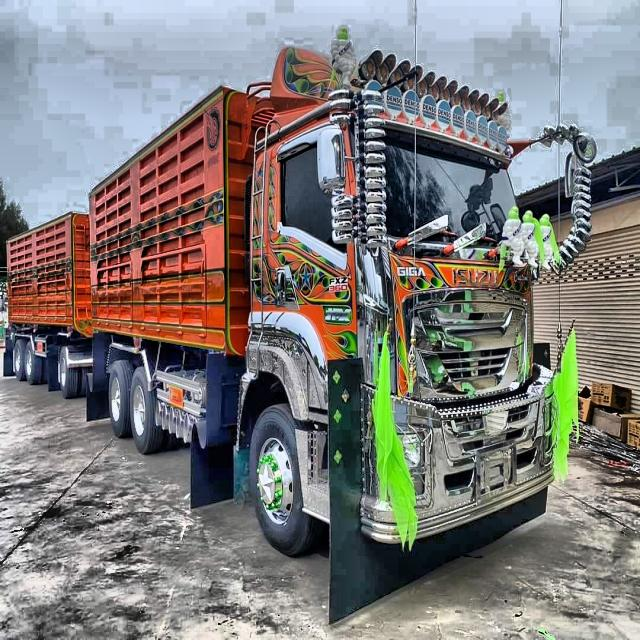trailer: (3, 28, 554, 562)
